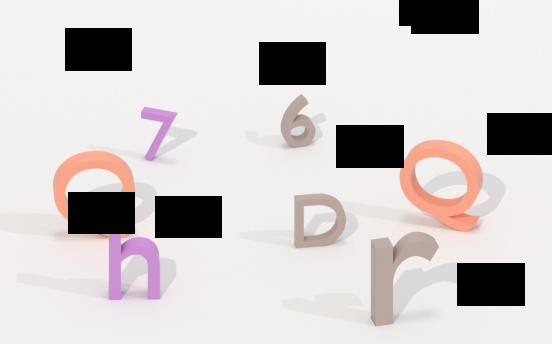6: (279, 90, 319, 152)
7: (137, 101, 182, 165)
R: (366, 229, 441, 330)
d: (291, 190, 350, 252)
h: (104, 200, 166, 307)
q: (398, 137, 489, 235), (50, 149, 136, 242)
